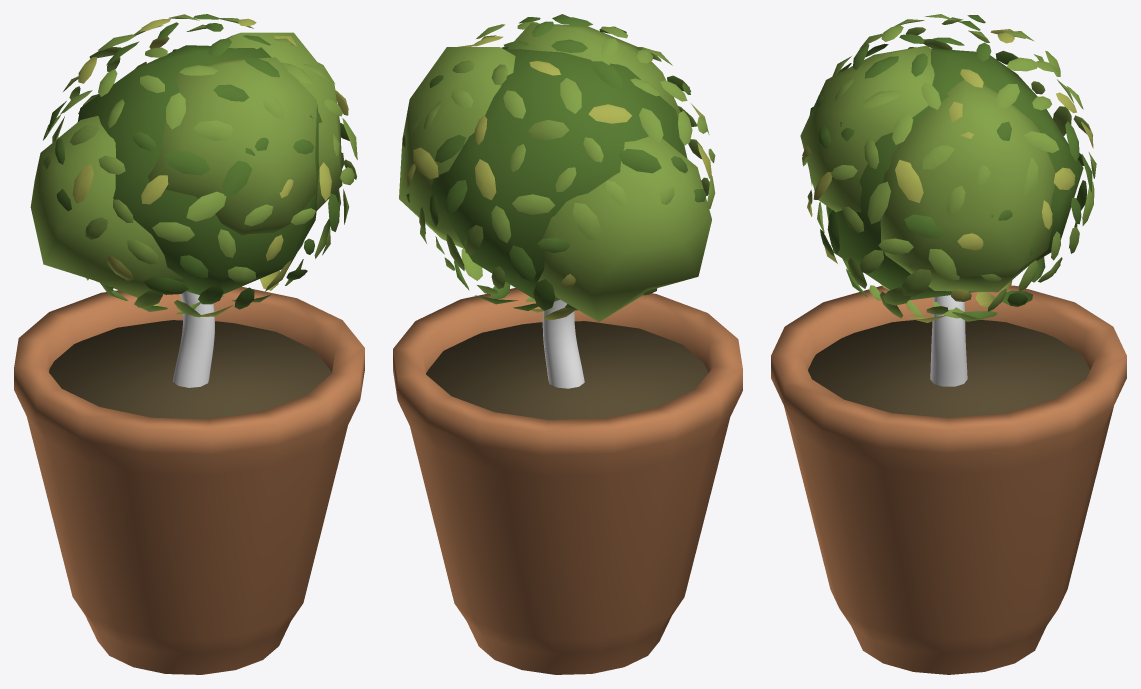
File: PlanterOlive.glb
The picture shows the model from 3 angles, left to right: view 1: azimuth 30°, elevation 25°; view 2: azimuth 150°, elevation 25°; view 3: azimuth 270°, elevation 25°; orthographic projection.
Visible parts, largest first — view 1: RK_PlanterOlive_RK_Terracotta, RK_PlanterOlive_RK_Leaf, RK_PlanterOlive_RK_LeafDark, RK_PlanterOlive_RK_Soil, RK_PlanterOlive_RK_LeafGold, RK_PlanterOlive_RK_Bark; view 2: RK_PlanterOlive_RK_Terracotta, RK_PlanterOlive_RK_Leaf, RK_PlanterOlive_RK_LeafDark, RK_PlanterOlive_RK_Soil, RK_PlanterOlive_RK_LeafGold, RK_PlanterOlive_RK_Bark; view 3: RK_PlanterOlive_RK_Terracotta, RK_PlanterOlive_RK_Leaf, RK_PlanterOlive_RK_Soil, RK_PlanterOlive_RK_LeafDark, RK_PlanterOlive_RK_LeafGold, RK_PlanterOlive_RK_Bark.
Part boxes in pixels (x1=…): RK_PlanterOlive_RK_Terracotta: x1=14, y1=286, x2=364, y2=674; RK_PlanterOlive_RK_Leaf: x1=30, y1=14, x2=357, y2=317; RK_PlanterOlive_RK_LeafDark: x1=48, y1=14, x2=349, y2=309; RK_PlanterOlive_RK_Soil: x1=49, y1=320, x2=331, y2=419; RK_PlanterOlive_RK_LeafGold: x1=72, y1=18, x2=348, y2=316; RK_PlanterOlive_RK_Bark: x1=172, y1=291, x2=214, y2=387; RK_PlanterOlive_RK_Terracotta: x1=393, y1=288, x2=742, y2=674; RK_PlanterOlive_RK_Leaf: x1=399, y1=21, x2=715, y2=321; RK_PlanterOlive_RK_LeafDark: x1=403, y1=14, x2=706, y2=310; RK_PlanterOlive_RK_Soil: x1=426, y1=321, x2=707, y2=419; RK_PlanterOlive_RK_LeafGold: x1=406, y1=36, x2=712, y2=319; RK_PlanterOlive_RK_Bark: x1=542, y1=299, x2=584, y2=388; RK_PlanterOlive_RK_Terracotta: x1=771, y1=285, x2=1126, y2=674; RK_PlanterOlive_RK_Leaf: x1=800, y1=14, x2=1096, y2=321; RK_PlanterOlive_RK_Soil: x1=808, y1=320, x2=1089, y2=417; RK_PlanterOlive_RK_LeafDark: x1=810, y1=15, x2=1092, y2=318; RK_PlanterOlive_RK_LeafGold: x1=802, y1=29, x2=1093, y2=322; RK_PlanterOlive_RK_Bark: x1=930, y1=295, x2=967, y2=386.
Size of the model in its own units: 0.84 by 1.59 by 0.84.
